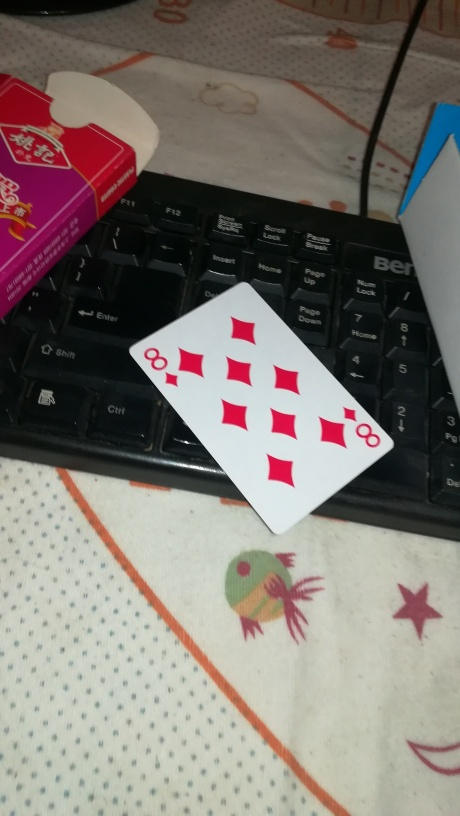fk 8: (124, 280, 396, 535)
